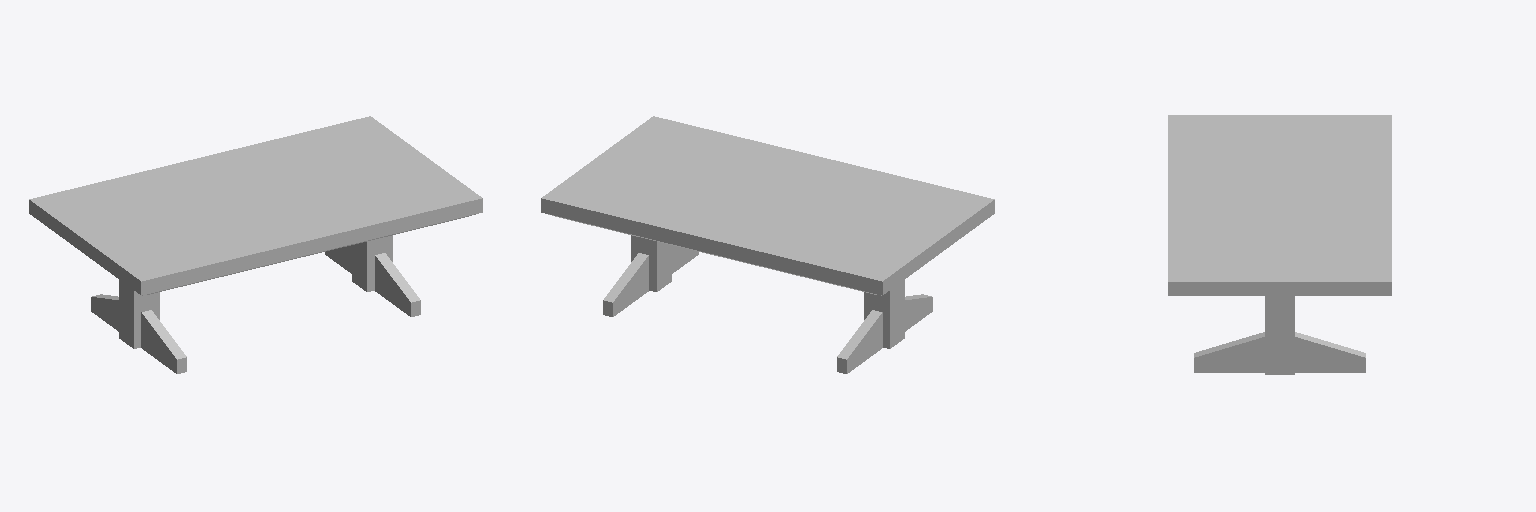
The model's file is tableMeeting.obj.
3 views of the same model, side by side, from view 1: azimuth 30°, elevation 25°; view 2: azimuth 150°, elevation 25°; view 3: azimuth 270°, elevation 25° (orthographic).
Parts seen in each view (by area): view 1: meetingTable; view 2: meetingTable; view 3: meetingTable.
Boxes of the visible parts, x1,y1,x2,y2 form: meetingTable: [29, 116, 482, 373]; meetingTable: [541, 116, 994, 373]; meetingTable: [1168, 115, 1391, 374].
Bounding box in the file's own units: 3.96 × 1.27 × 2.25.